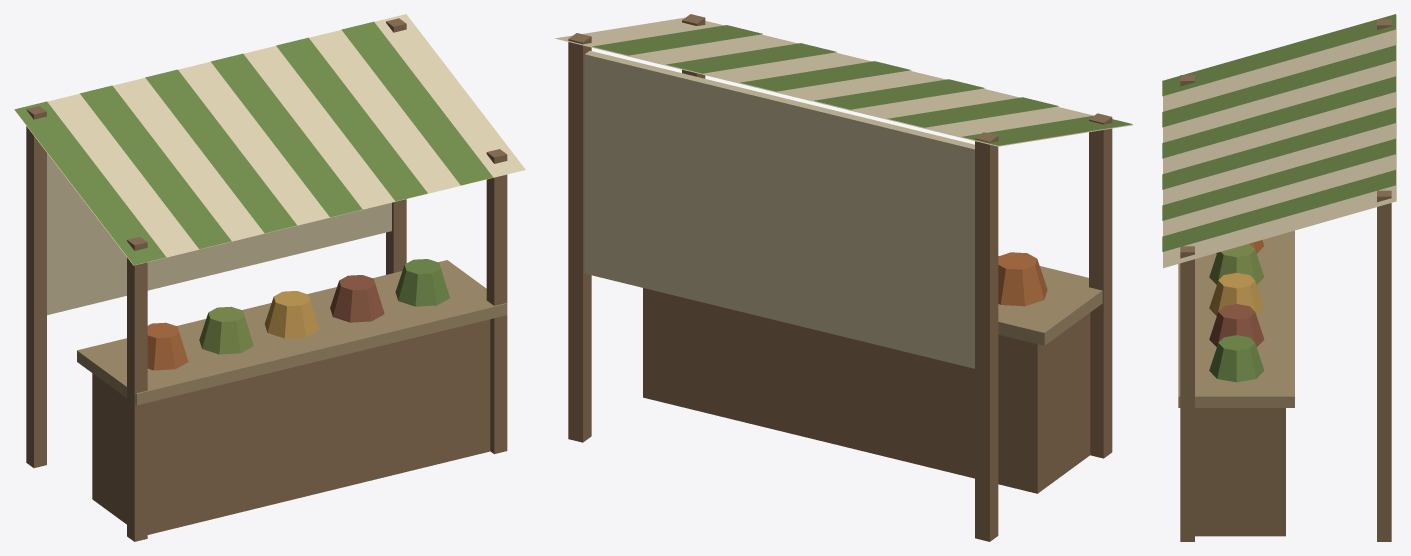
Rendered from capital-stall-produce.glb.
3 renders of one model, left to right at view 1: azimuth 30°, elevation 25°; view 2: azimuth 150°, elevation 25°; view 3: azimuth 270°, elevation 25°, orthographic. The views are drawn at different scales.
Visible parts, largest first — view 1: Building; view 2: Building; view 3: Building.
Boxes of the visible parts, <box> form: Building: <box>14,14,525,541</box>; Building: <box>554,14,1132,541</box>; Building: <box>1162,14,1396,541</box>.
Bounding box in the file's own units: 72 × 62.1 × 38.1.
